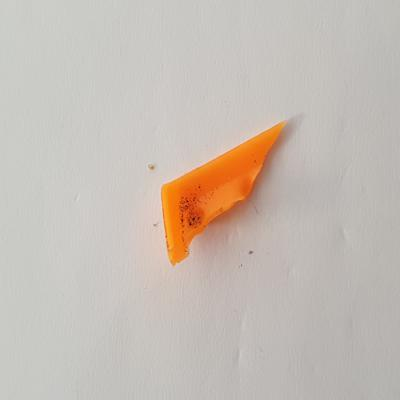plastic: (156, 114, 293, 271)
